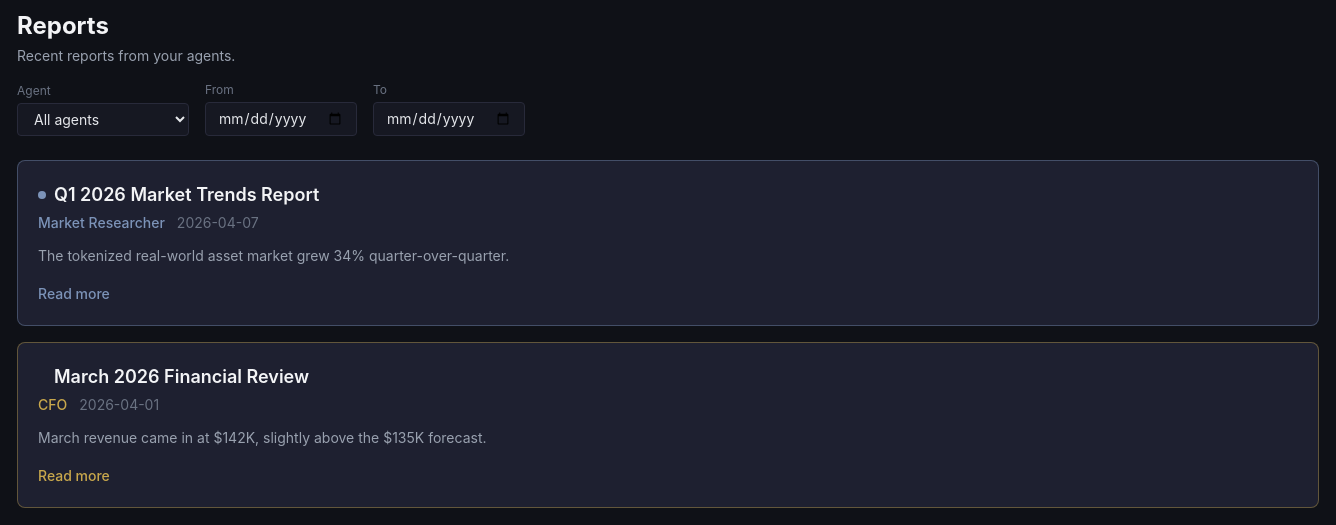
ReportsFeed › clears filters when Clear filters is clicked
Check: the heading "Q1 2026 Market Trends Report" is shown, box [54, 181, 319, 209]
Select "CFO" in the dropdown with test id "agent-filter" at point(103, 120), box [17, 103, 189, 136]
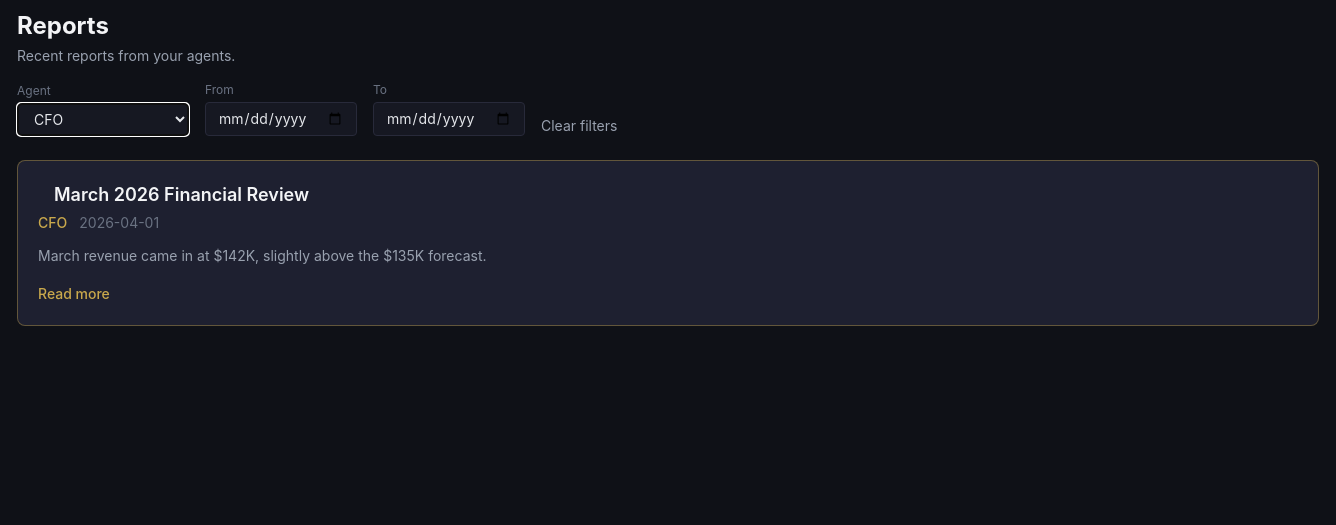
Check: the heading "Q1 2026 Market Trends Report" is gone
Click the button with test id "clear-filters" at point(579, 126), box [541, 116, 617, 136]
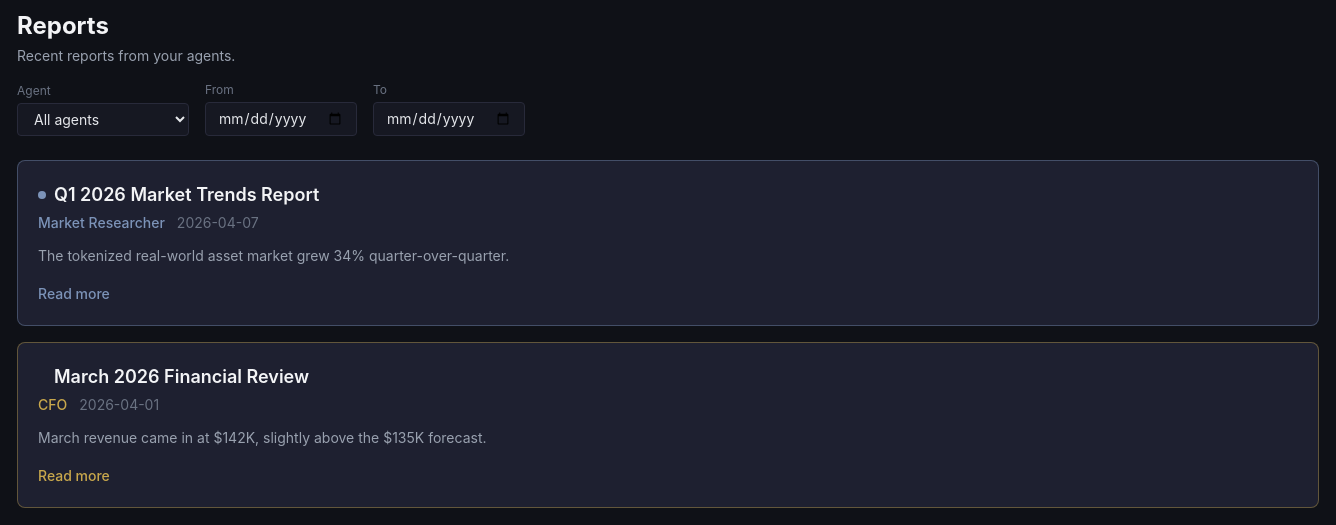
Check: the heading "March 2026 Financial Review" is shown, box [54, 363, 309, 391]
Check: the heading "Q1 2026 Market Trends Report" is shown, box [54, 181, 319, 209]
